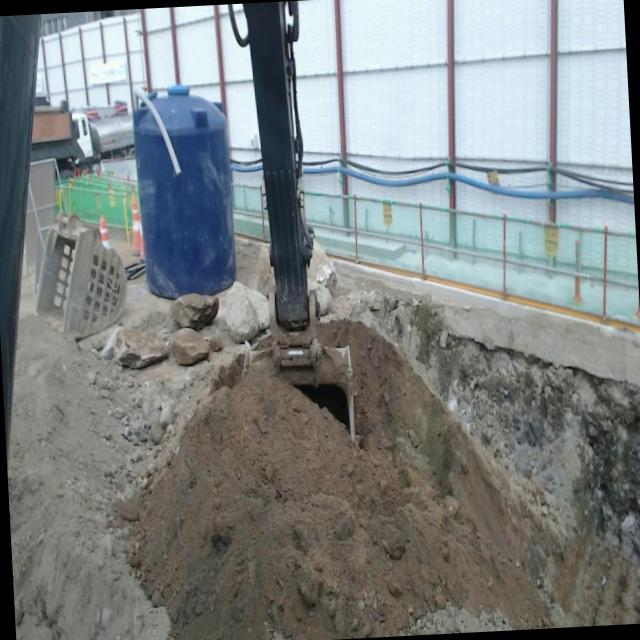red-sand: (123, 321, 640, 640)
stone: (226, 282, 270, 343), (107, 327, 170, 369), (170, 293, 219, 330), (170, 328, 210, 366)
white-sand: (8, 311, 170, 640)
